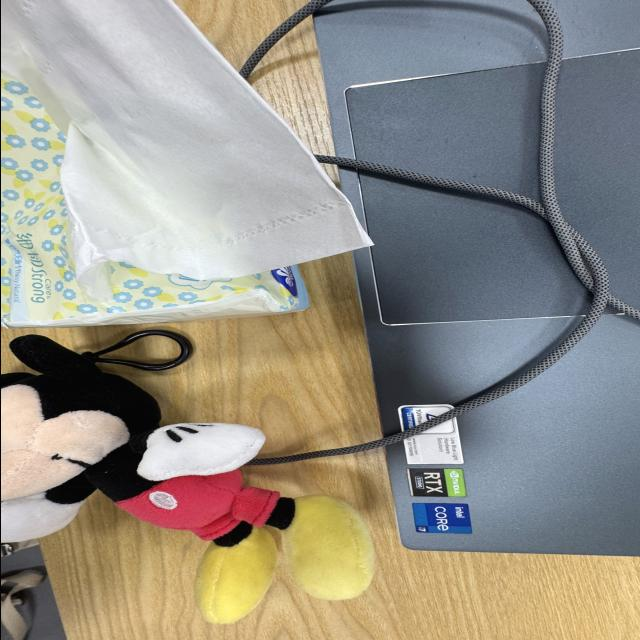mickey: (1, 335, 372, 622)
tissue: (2, 0, 370, 279), (1, 73, 307, 327)
